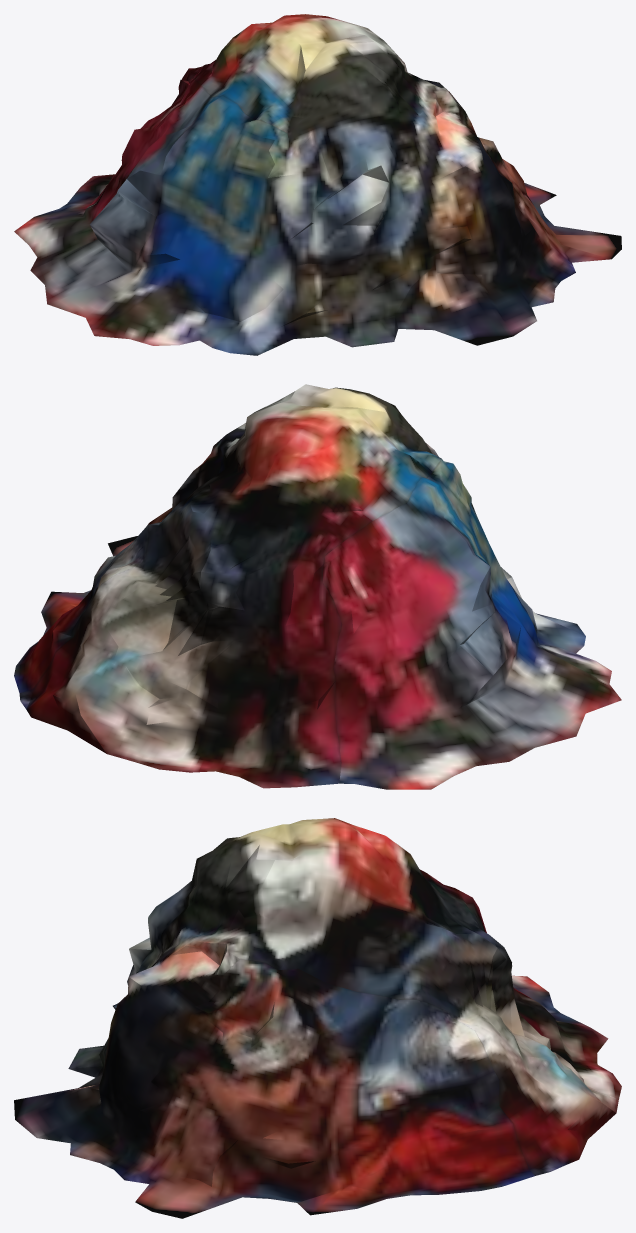
Rendered from cloth_pile_lod1.glb.
3 views of the same model, one above another, from view 1: azimuth 30°, elevation 25°; view 2: azimuth 150°, elevation 25°; view 3: azimuth 270°, elevation 25° (orthographic). The views are drawn at different scales.
Visible parts, largest first — view 1: cloth_pile; view 2: cloth_pile; view 3: cloth_pile.
Part boxes in pixels (x1,y1,x2,y2): cloth_pile: (14,14,621,355); cloth_pile: (14,384,621,789); cloth_pile: (14,818,621,1218).
Size of the model in its own units: 0.24 by 0.1093 by 0.229.
Materials: 1 (1 with a texture image).
